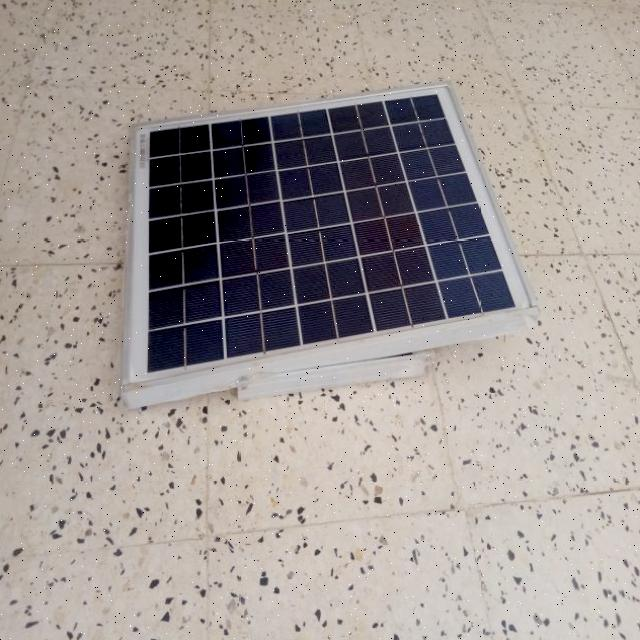Normal Solar Panel: (120, 85, 544, 389)
